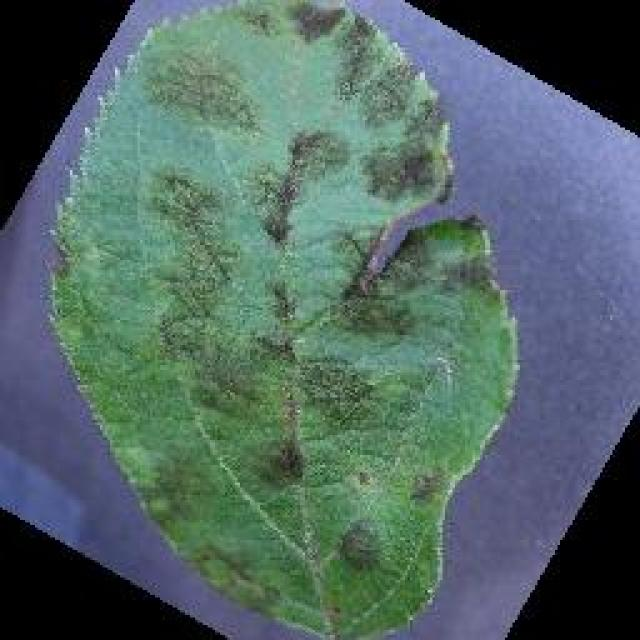apple scab disease: (42, 0, 522, 638)
